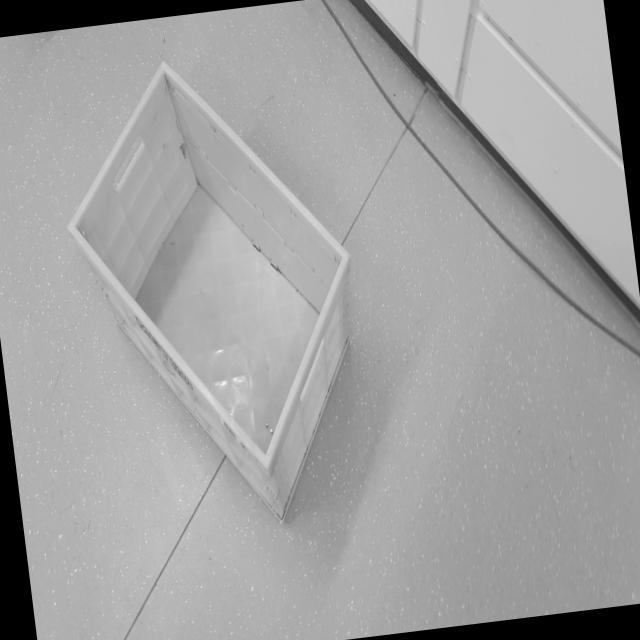box: (34, 28, 387, 572)
